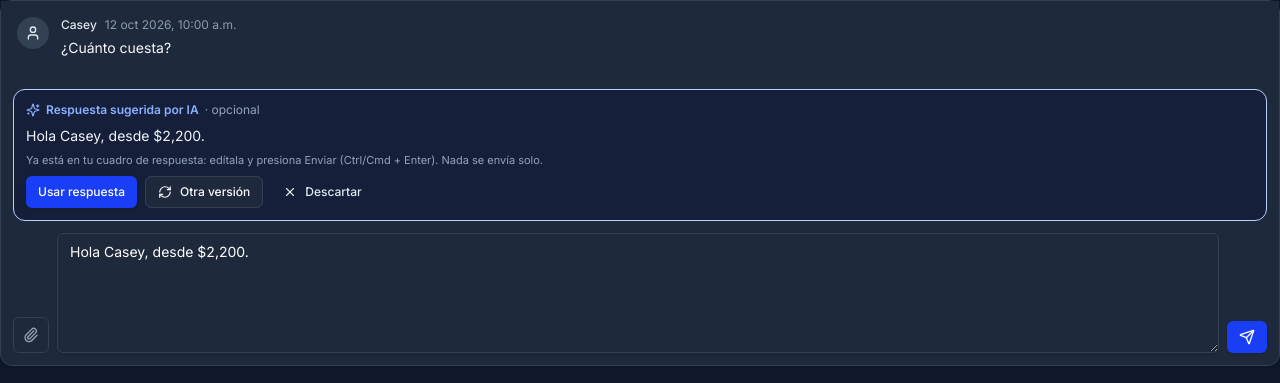
Test: borrador de IA en el hilo › descartar quita la sugerencia y avisa al servidor; 'otra versión' pide una nueva
This screenshot has width=1280, height=383.
Click the button "Otra versión" at point(204, 192), box [145,176,263,208]
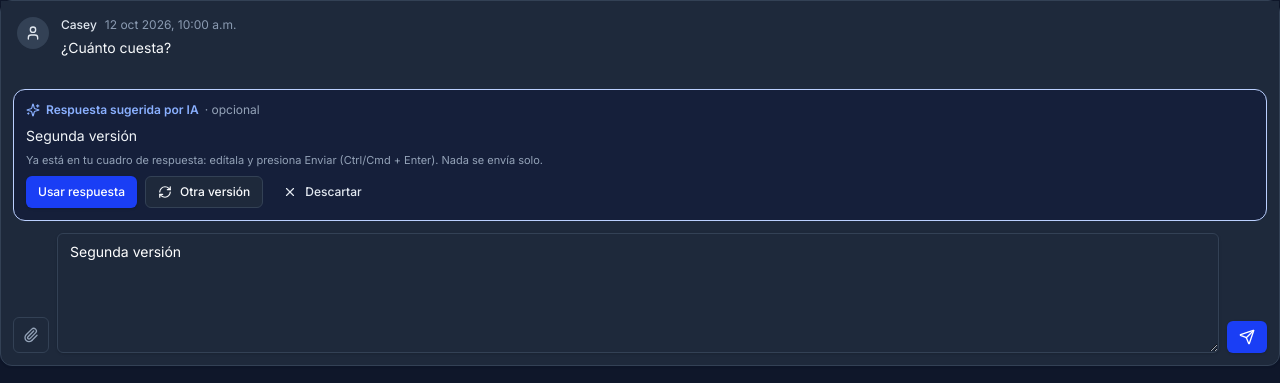
Expected: the text box named "Tu respuesta" holds "Segunda versión", [57,233,1219,353]
Click the button "Descartar" at point(322, 192), box [271,176,374,208]
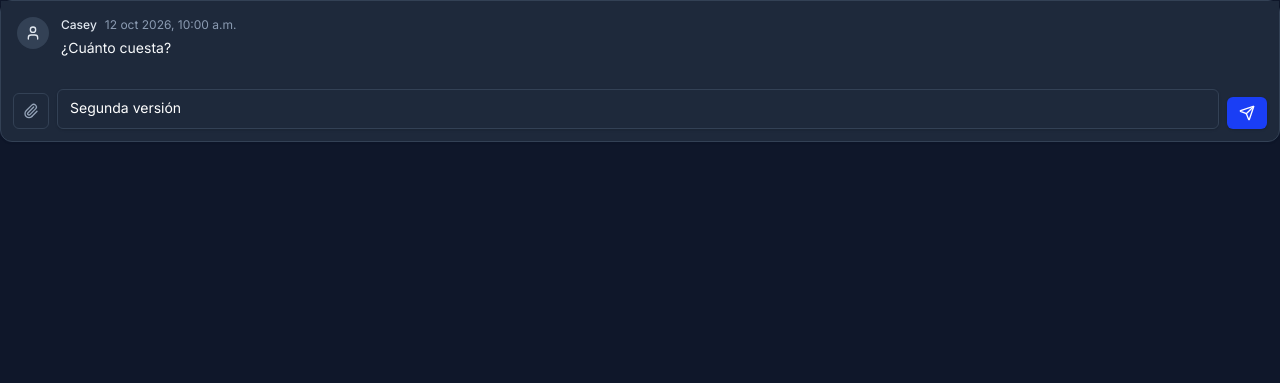
Expected: the text "Respuesta sugerida por IA" is gone
